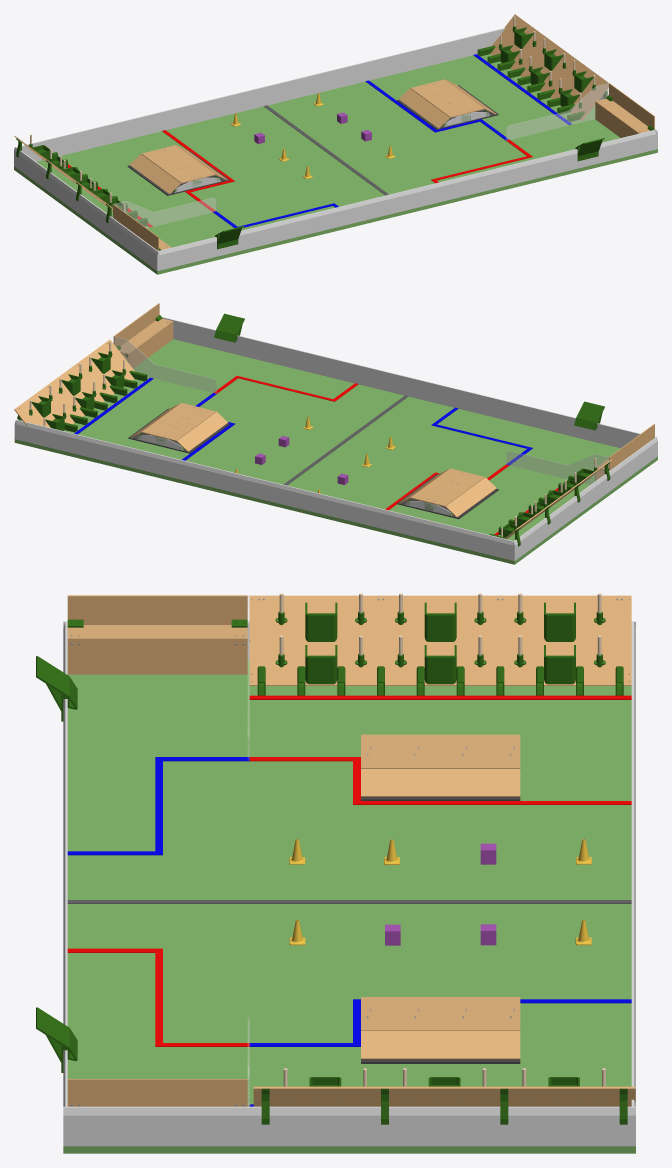
The model's file is MINIFRC_FIELD.dae.
3 views of the same model, one above another, from view 1: azimuth 30°, elevation 25°; view 2: azimuth 150°, elevation 25°; view 3: azimuth 270°, elevation 25° (orthographic). The views are drawn at different scales.
Visible parts, largest first — view 1: carpet, field wall (×5), grid large panel (×3), loading station divider (×2), station top panel (×2), field line (×5), station incline panel (×2), loading station rear (×2), station base panel (×2), Single Substation (×2), loading station shelf, loading station front (+1 smaller); view 2: carpet, field wall (×5), loading station divider (×2), grid large panel (×3), station top panel (×2), station incline panel (×2), loading station rear (×2), Single Substation (×2), station base panel (×2), field line (×2), loading station front, loading station shelf (+1 smaller); view 3: carpet, grid large panel (×6), field wall (×5), station top panel (×2), loading station rear (×2), station incline panel (×2), field line (×5), loading station front, grid cube node (×6), loading station shelf, Single Substation (×2), center line (+2 smaller).
Boxes of the visible parts, box(x1,y1,x2,y2) form: carpet: box(14, 54, 657, 274); field wall (×5): box(14, 28, 655, 270); grid large panel (×3): box(490, 16, 606, 113); loading station divider (×2): box(112, 83, 608, 228); station top panel (×2): box(142, 79, 484, 183); field line (×5): box(162, 54, 571, 227); station incline panel (×2): box(129, 88, 449, 194); loading station rear (×2): box(113, 83, 654, 250); station base panel (×2): box(127, 85, 498, 195); Single Substation (×2): box(215, 138, 604, 249); loading station shelf: box(595, 98, 650, 133); loading station front: box(595, 102, 637, 137); carpet: box(14, 339, 657, 564); field wall (×5): box(16, 317, 657, 560); loading station divider (×2): box(113, 336, 609, 484); grid large panel (×3): box(18, 341, 134, 427); station top panel (×2): box(142, 403, 484, 506); station incline panel (×2): box(177, 412, 496, 517); loading station rear (×2): box(113, 303, 654, 470); Single Substation (×2): box(214, 313, 604, 430); station base panel (×2): box(128, 408, 498, 519); field line (×2): box(213, 376, 532, 465); loading station front: box(127, 322, 173, 368); loading station shelf: box(119, 318, 173, 354); carpet: box(63, 660, 635, 1153); grid large panel (×6): box(261, 595, 623, 1106); field wall (×5): box(63, 622, 635, 1146); station top panel (×2): box(361, 734, 520, 1030); loading station rear (×2): box(67, 595, 247, 1106); station incline panel (×2): box(361, 769, 520, 1059); field line (×5): box(67, 695, 631, 1046); loading station front: box(67, 640, 247, 674); grid cube node (×6): box(305, 602, 575, 684); loading station shelf: box(67, 625, 247, 640); Single Substation (×2): box(36, 656, 77, 1072); center line: box(67, 900, 631, 903).
Size of the model in its own units: 3.7 by 1.92 by 0.2794.
